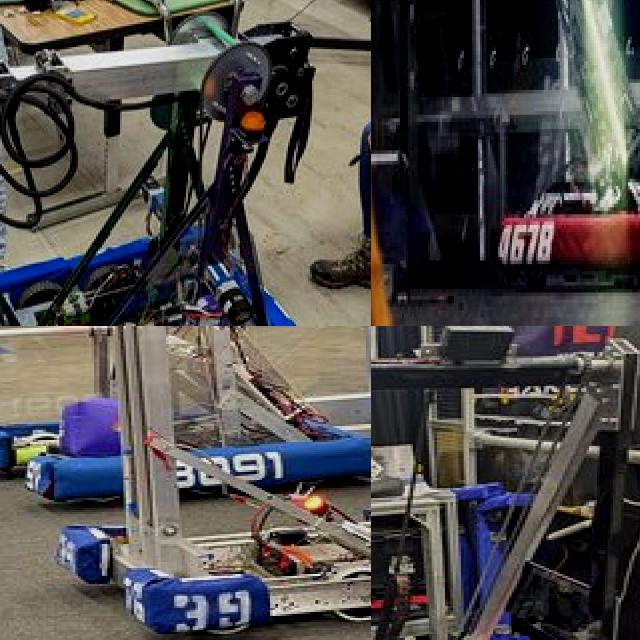FRC-Robots: (0, 17, 370, 326), (38, 326, 371, 633), (371, 326, 640, 640), (470, 0, 640, 274)
